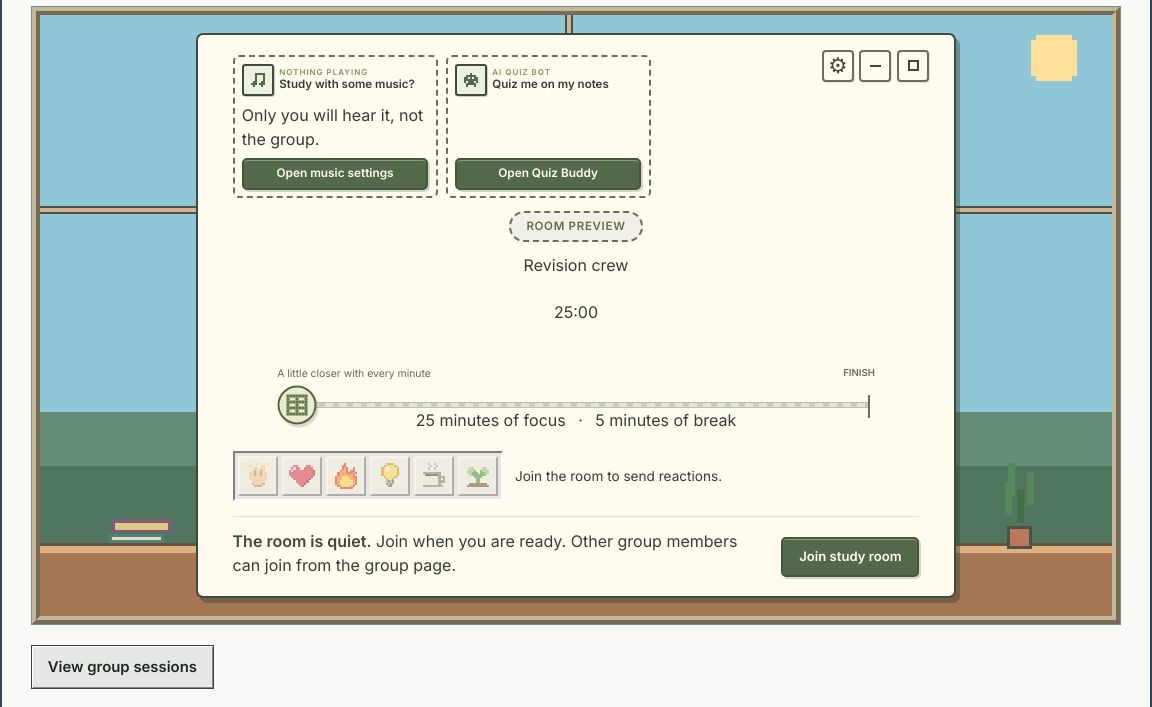
Scenario: private room screen › joins as a host and confirms ending the session before sending a versioned reset
The width and height of the screenshot is (1152, 707).
(page scrolled)
Click the button "Join study room" at (850, 557), box left=781, top=537, right=920, bottom=577
(page scrolled)
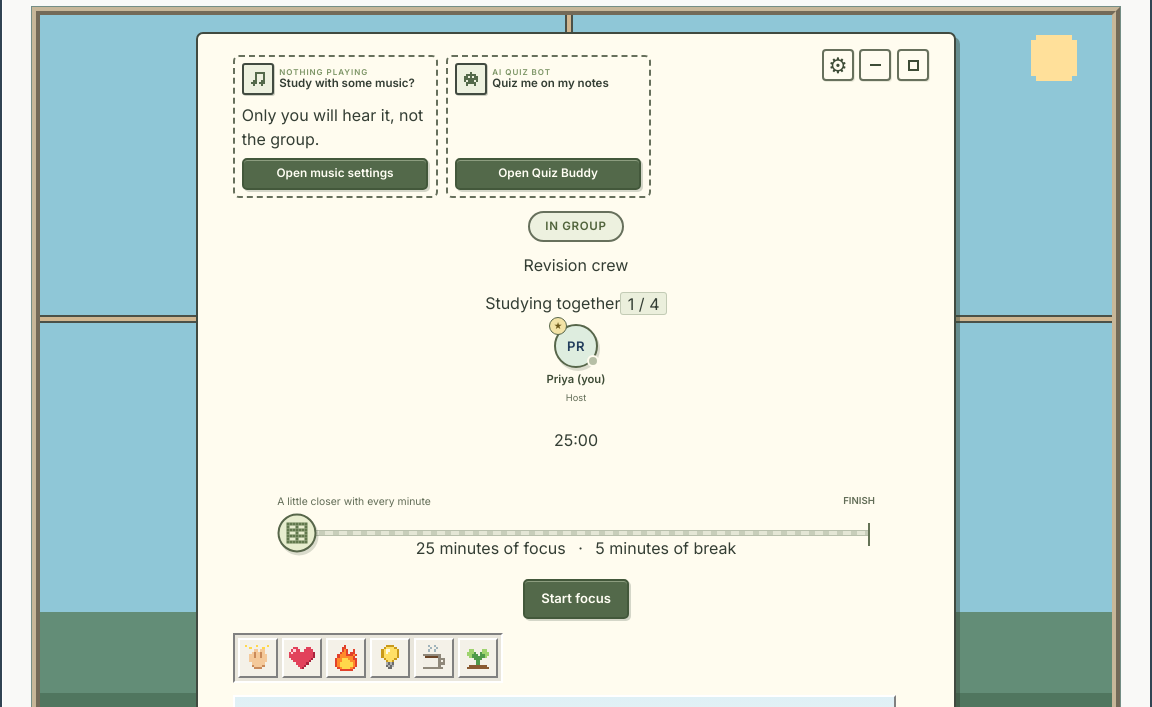
Click the button "Start focus" at (576, 599), box left=523, top=579, right=629, bottom=619
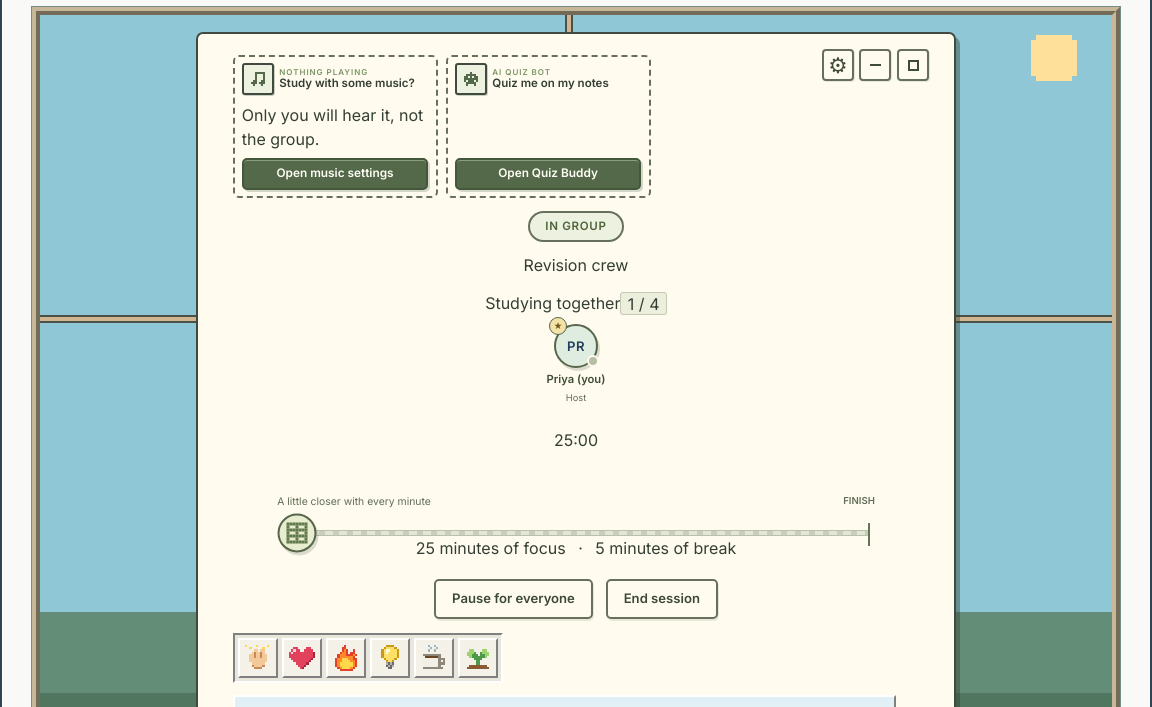
Now the button "Pause for everyone" is shown, box left=434, top=579, right=593, bottom=619
Click the button "End session" at (662, 599), box left=606, top=579, right=718, bottom=619
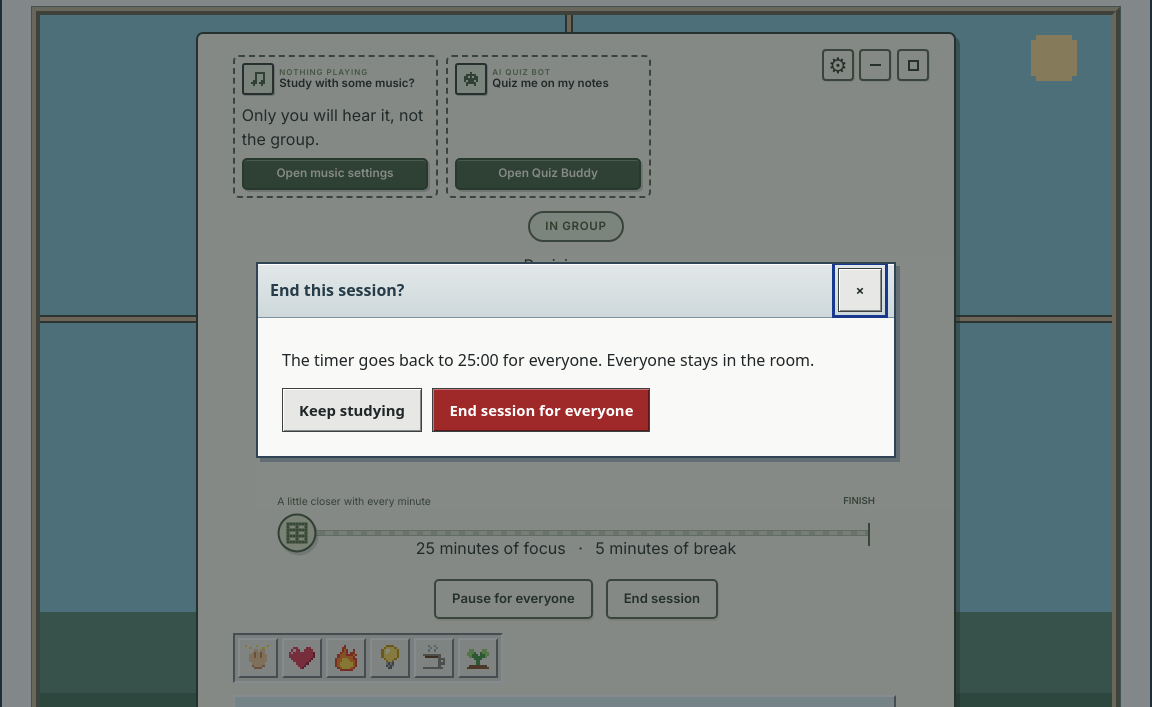
Click the button "End session for everyone" at (541, 410), box left=432, top=388, right=650, bottom=432
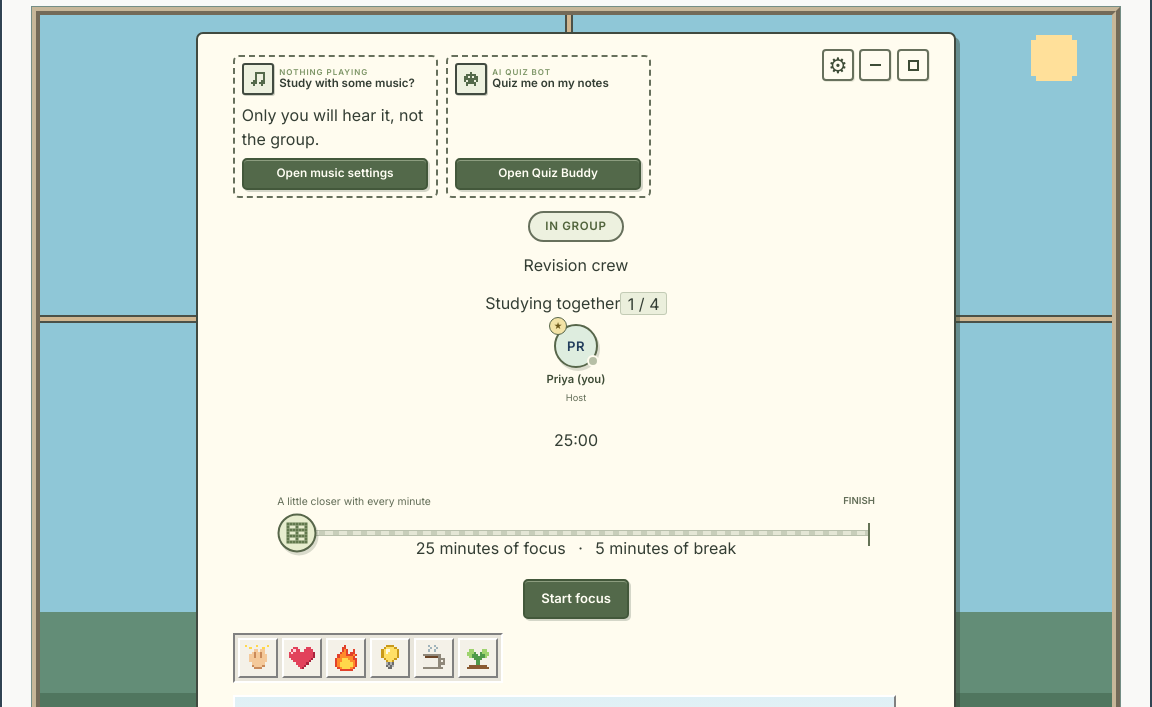
Now the button "Start focus" is shown, box left=523, top=579, right=629, bottom=619
